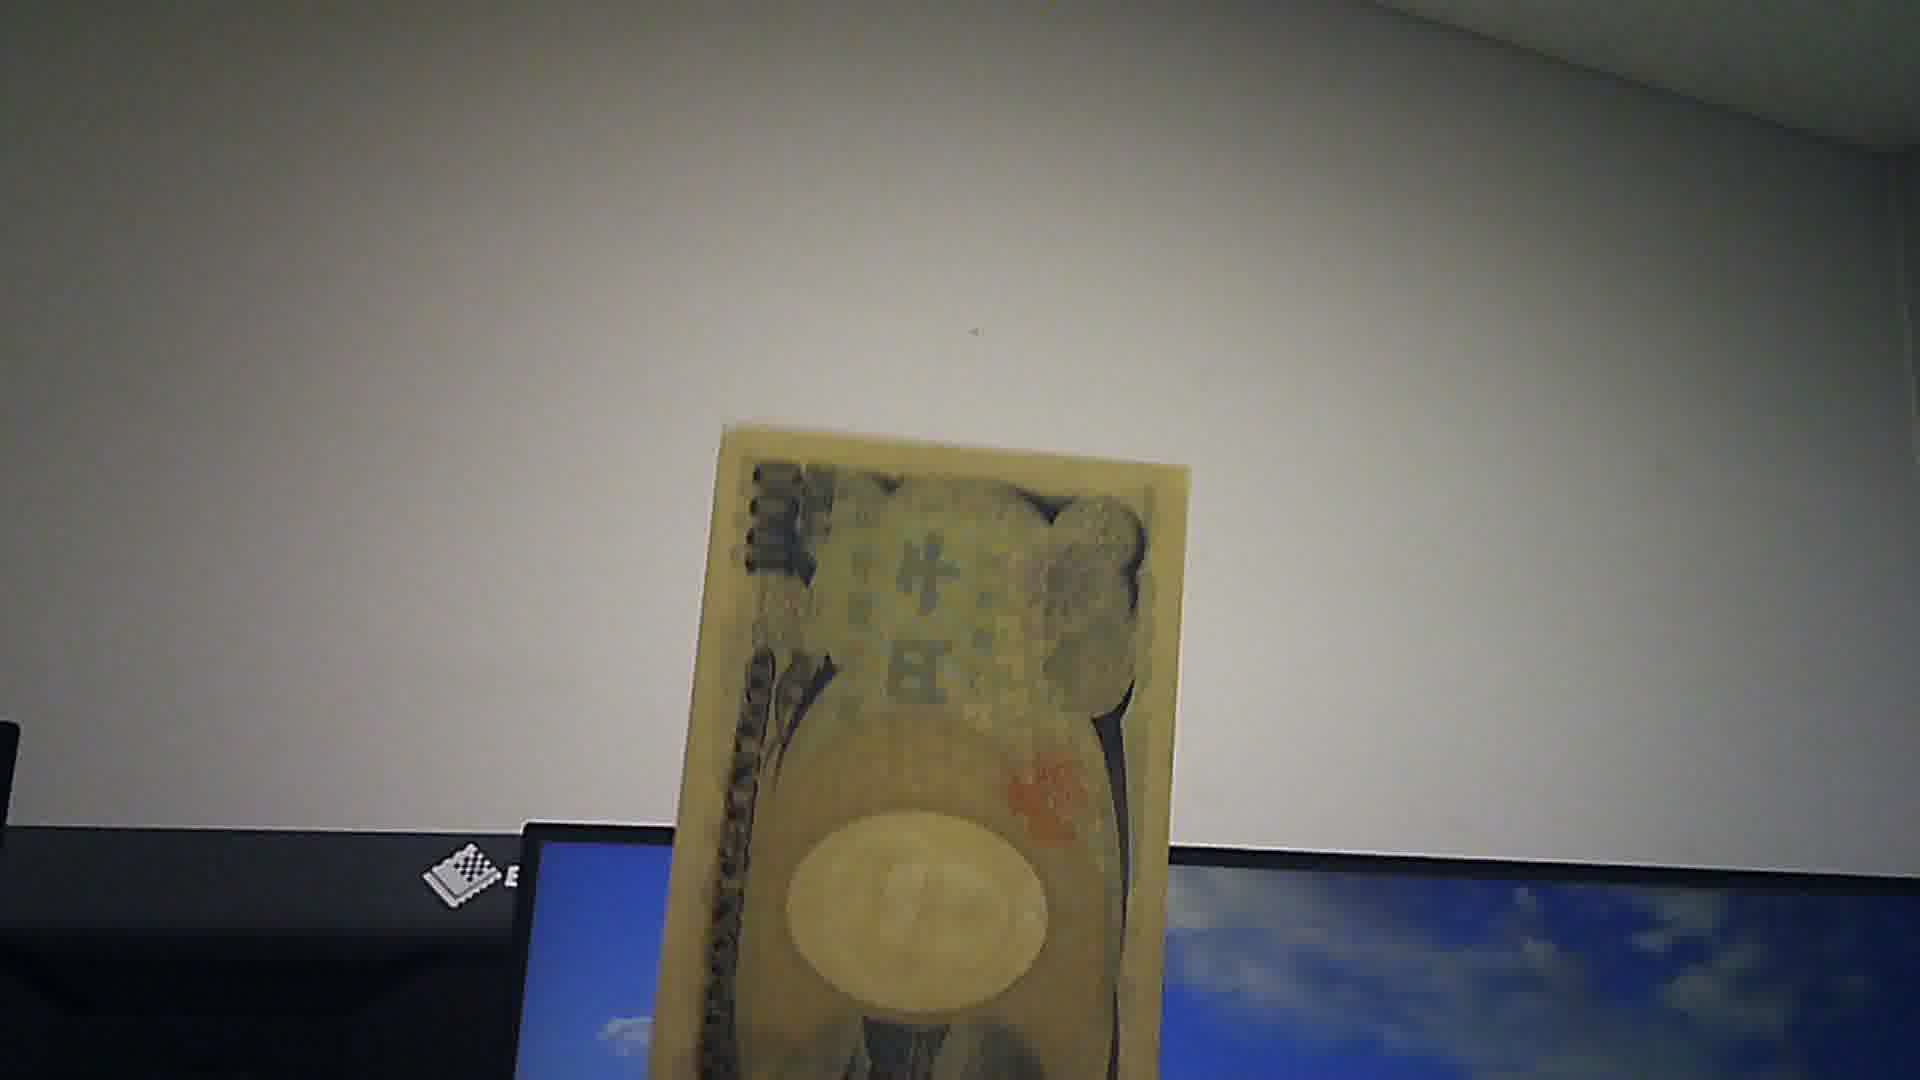1,000 Yen: (663, 411, 1164, 1079)
